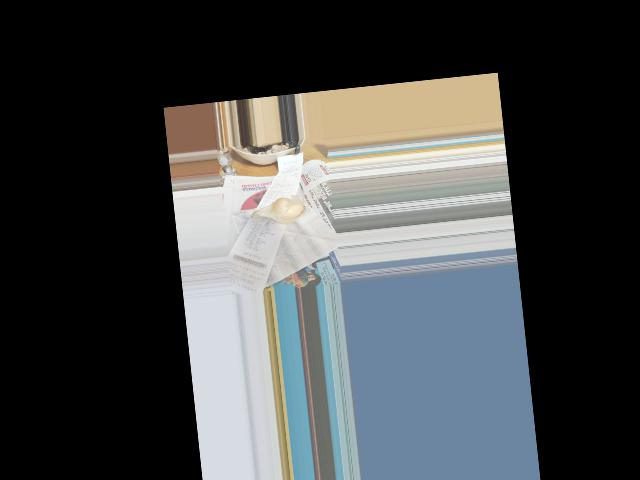onion: (262, 197, 304, 224)
